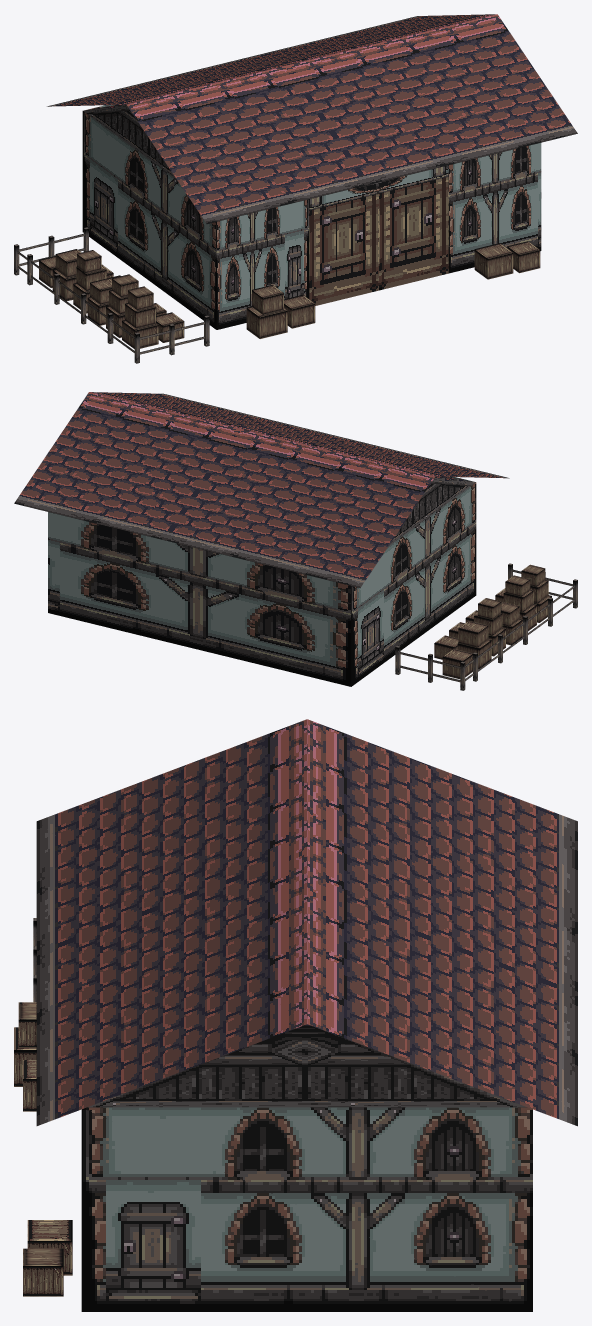
The model's file is warehouse.glb.
The picture shows the model from 3 angles, top to bottom: view 1: azimuth 30°, elevation 25°; view 2: azimuth 150°, elevation 25°; view 3: azimuth 270°, elevation 25°; orthographic projection. The views are drawn at different scales.
Visible parts, largest first — view 1: Ware_RoofFront, Ware_Left, Ware_FrontRight, Ware_FrontLeft, Ware_RoofBack, Ware_DoorRight, Ware_DoorLeft, Ware_GableLeft, Ware_FrontTop, Box20_Front, Box23_Front, Box21_Front; view 2: Ware_RoofBack, Ware_Back, Ware_Left, Ware_RoofFront, Ware_GableLeft; view 3: Ware_Right, Ware_RoofFront, Ware_RoofBack, Ware_GableRight, Box24_Right, Box23_Top, Box24_Top.
Boxes of the visible parts, x1,y1,x2,y2 form: Ware_RoofFront: (127,14,577,223); Ware_Left: (82,111,216,329); Ware_FrontRight: (448,143,541,273); Ware_FrontLeft: (216,199,309,329); Ware_RoofBack: (47,14,495,106); Ware_DoorRight: (379,176,448,290); Ware_DoorLeft: (309,193,378,305); Ware_GableLeft: (83,104,175,178); Ware_FrontTop: (309,165,448,210); Box20_Front: (260,310,287,338); Box23_Front: (488,253,513,279); Box21_Front: (292,304,315,328); Ware_RoofBack: (14,392,434,587); Ware_Back: (48,512,351,686); Ware_Left: (351,482,476,686); Ware_RoofFront: (89,392,509,478); Ware_GableLeft: (389,476,475,545); Ware_Right: (81,1107,532,1311); Ware_RoofFront: (36,719,307,1125); Ware_RoofBack: (307,719,577,1126); Ware_GableRight: (88,1024,526,1107); Box24_Right: (23,1266,63,1296); Box23_Top: (27,1220,72,1240); Box24_Top: (23,1248,63,1265).
Size of what is drawn, in the model's own units: 19.07 by 7.5 by 12.5.
Materials: 1 (1 with a texture image).
